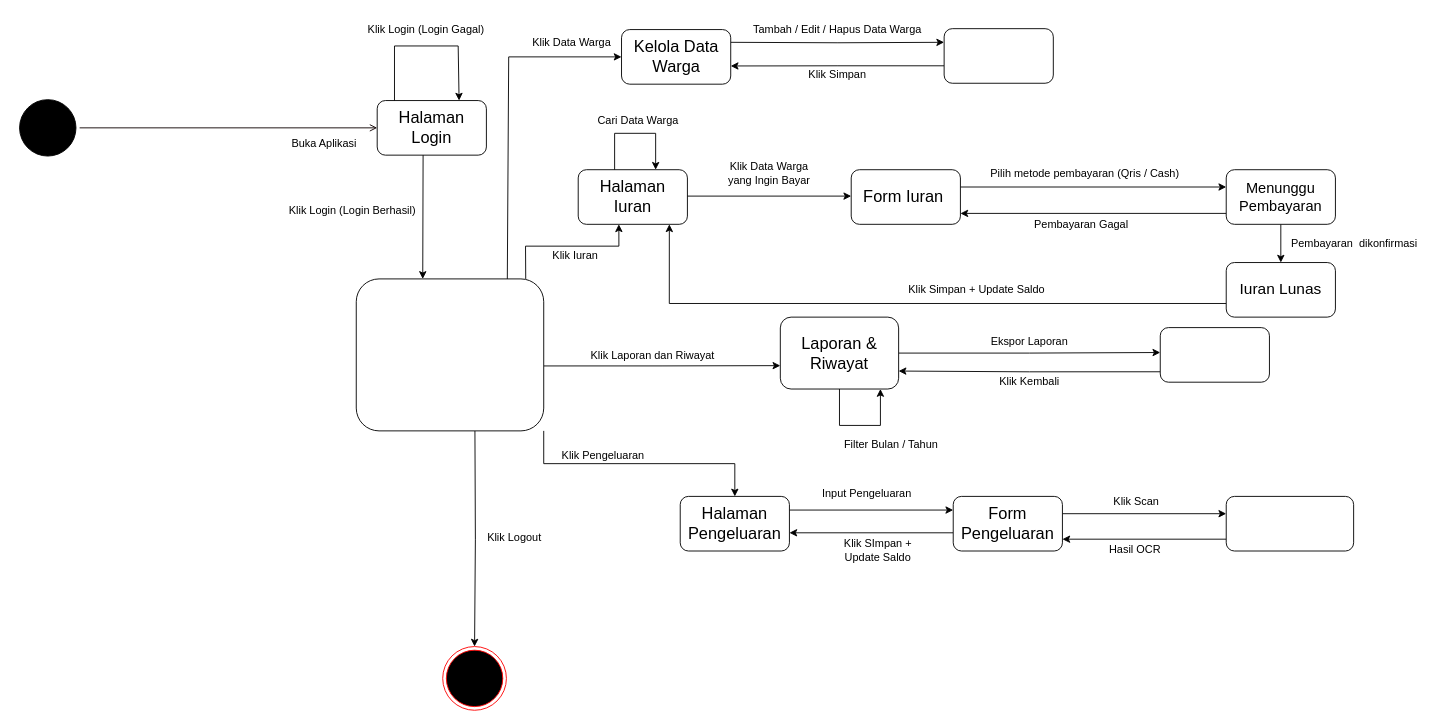
Image size: 1442x726. Some labels were removed from this diagram. The box of each missing label's shape, as (x1, y1, x2, y2) in pixels:
Cetak Laporan: (1159, 327, 1269, 382)
Dashboard: (355, 278, 544, 431)
Form Data Warga: (943, 28, 1053, 83)
Scan Nota (OCR): (1225, 495, 1354, 551)
